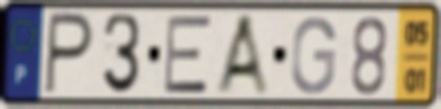3: (100, 11, 143, 97)
8: (350, 13, 389, 97)
A: (212, 11, 274, 100)
E: (162, 13, 213, 96)
G: (288, 13, 339, 97)
P: (41, 10, 97, 98)
